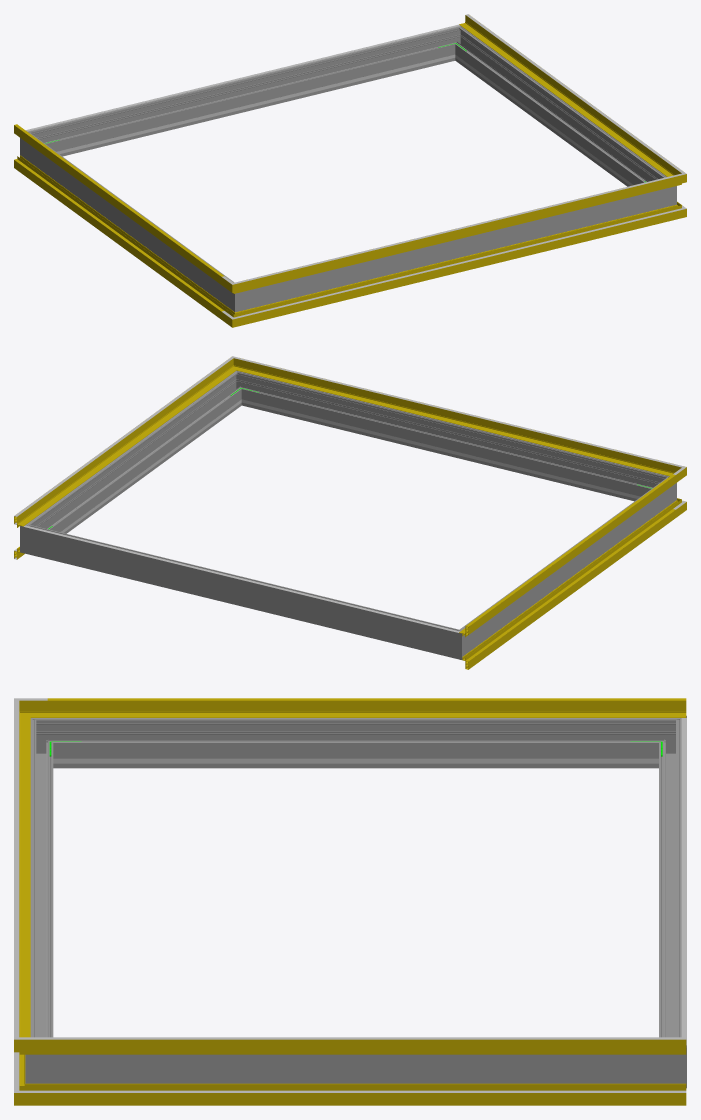
3 views of the same model, one above another, from view 1: azimuth 30°, elevation 25°; view 2: azimuth 150°, elevation 25°; view 3: azimuth 270°, elevation 25° (orthographic). The views are drawn at different scales.
Parts seen in each view (by area): view 1: 3DGeom-276, 3DGeom-298, 3DGeom-297, 3DGeom-90, 3DGeom-56, 3DGeom-268, 3DGeom-85, 3DGeom-58, 3DGeom-50, 3DGeom-244, 3DGeom-220, 3DGeom-100 (+7 smaller); view 2: 3DGeom-298, 3DGeom-276, 3DGeom-297, 3DGeom-56, 3DGeom-268, 3DGeom-85, 3DGeom-58, 3DGeom-50, 3DGeom-239, 3DGeom-220, 3DGeom-66, 3DGeom-278 (+6 smaller); view 3: 3DGeom-268, 3DGeom-297, 3DGeom-97, 3DGeom-50, 3DGeom-58, 3DGeom-298, 3DGeom-276, 3DGeom-56, 3DGeom-232, 3DGeom-220, 3DGeom-64, 3DGeom-71 (+7 smaller).
Part boxes in pixels (x1,y1,x2,y2): 3DGeom-276: [41, 29, 452, 156]; 3DGeom-298: [254, 190, 657, 307]; 3DGeom-297: [457, 32, 662, 186]; 3DGeom-90: [248, 208, 667, 323]; 3DGeom-56: [249, 178, 667, 289]; 3DGeom-268: [31, 138, 229, 303]; 3DGeom-85: [14, 155, 227, 319]; 3DGeom-58: [459, 15, 672, 176]; 3DGeom-50: [14, 125, 221, 284]; 3DGeom-244: [63, 59, 436, 153]; 3DGeom-220: [26, 24, 460, 131]; 3DGeom-100: [250, 212, 667, 314]; 3DGeom-298: [245, 374, 656, 501]; 3DGeom-276: [39, 528, 446, 655]; 3DGeom-297: [34, 377, 239, 533]; 3DGeom-56: [246, 362, 666, 474]; 3DGeom-268: [467, 483, 665, 648]; 3DGeom-85: [462, 505, 675, 669]; 3DGeom-58: [14, 365, 230, 527]; 3DGeom-50: [459, 475, 675, 637]; 3DGeom-239: [260, 404, 633, 497]; 3DGeom-220: [23, 525, 459, 632]; 3DGeom-66: [250, 361, 667, 463]; 3DGeom-278: [443, 624, 472, 659]; 3DGeom-268: [59, 718, 653, 768]; 3DGeom-297: [59, 1054, 653, 1083]; 3DGeom-97: [47, 1083, 686, 1105]; 3DGeom-50: [47, 700, 686, 717]; 3DGeom-58: [47, 1039, 686, 1054]; 3DGeom-298: [30, 730, 53, 1037]; 3DGeom-276: [659, 730, 681, 1037]; 3DGeom-56: [19, 713, 30, 1037]; 3DGeom-232: [85, 758, 626, 763]; 3DGeom-220: [681, 718, 686, 1045]; 3DGeom-64: [47, 1037, 686, 1039]; 3DGeom-71: [47, 698, 686, 700].
Size of the model in its own units: 3.66 by 0.3303 by 3.05.
